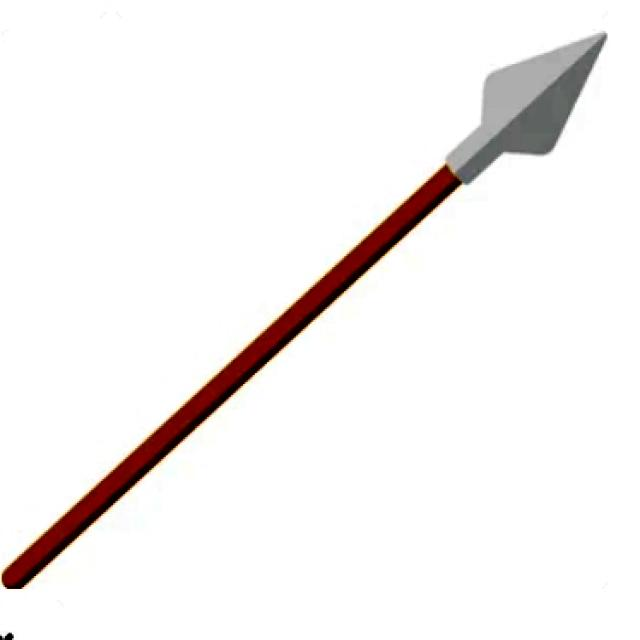spear: (4, 2, 622, 619)
